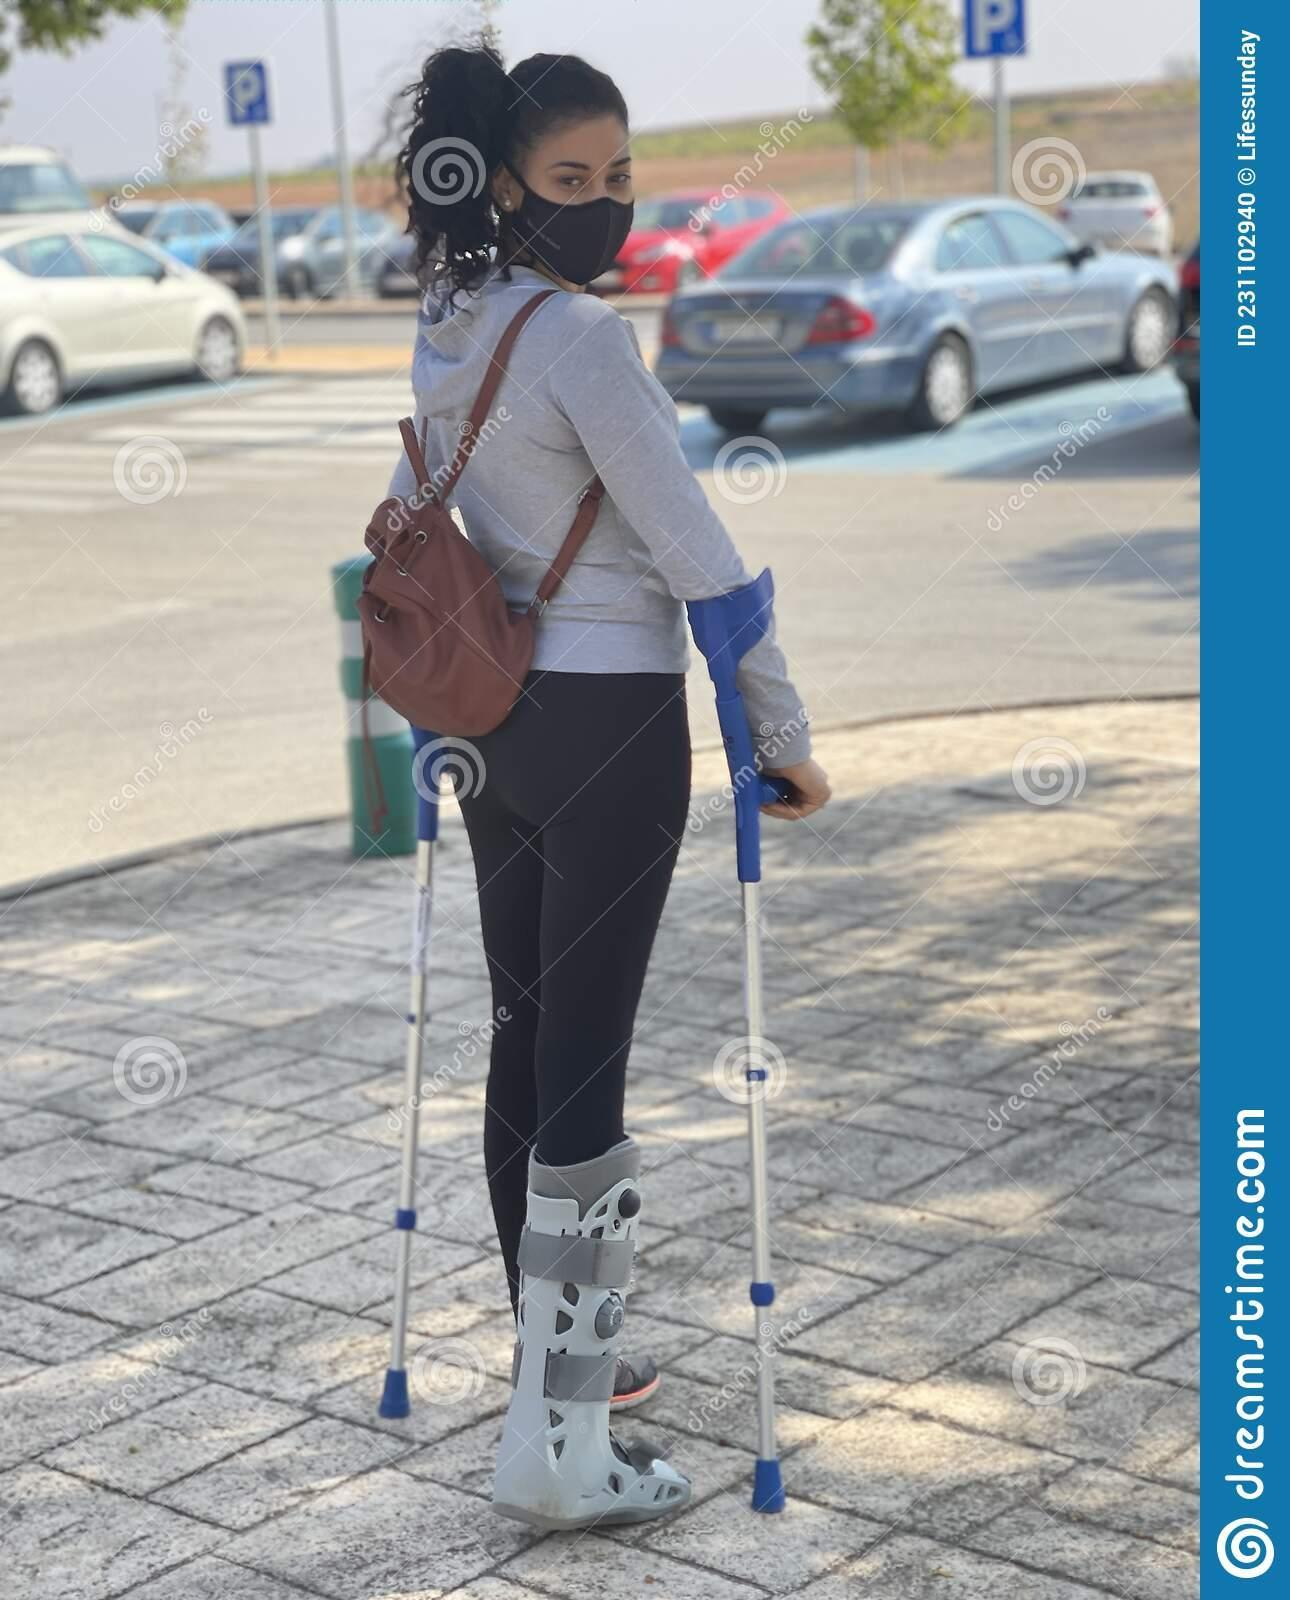crutches: (350, 30, 823, 1539)
